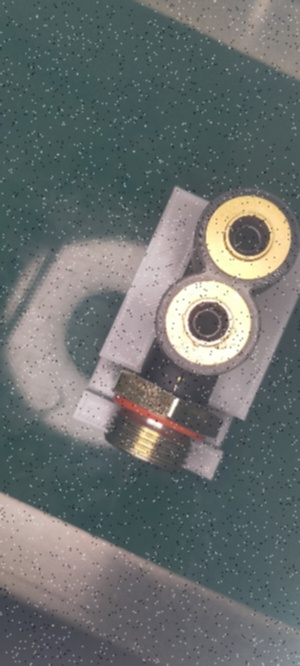craze: (170, 369, 184, 397)
